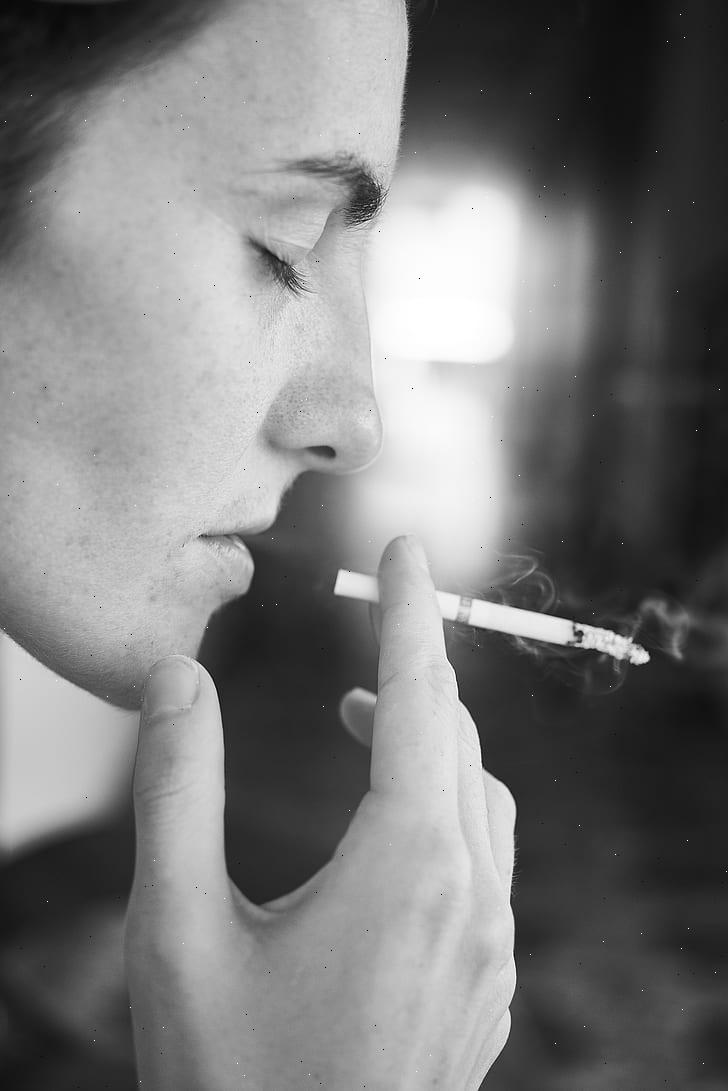cigarette: (436, 591, 649, 664)
